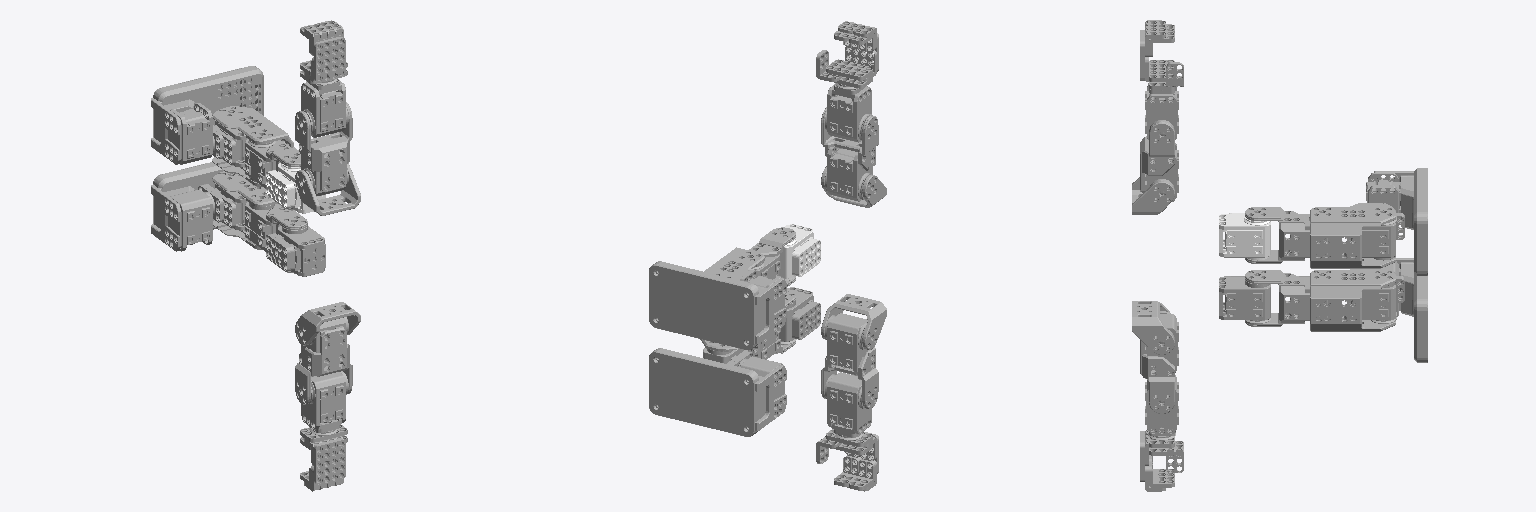
The robot description file, URDF, robot "UPGRADE_MINI_CAD":
<?xml version="1.0" encoding="utf-8"?>
<!-- This URDF was automatically created by SolidWorks to URDF Exporter! Originally created by [author] ([email redacted]) 
     Commit Version: 1.6.0-1-g15f4949  Build Version: 1.6.7594.29634
     For more information, please see http://wiki.ros.org/sw_urdf_exporter -->
<robot
  name="UPGRADE_MINI_CAD">
  <link
    name="Body">
    <inertial>
      <origin
        xyz="-0.0091918 -0.00047008 -0.016078"
        rpy="0 0 0" />
      <mass
        value="0.2437" />
      <inertia
        ixx="9.5353E-05"
        ixy="-3.5005E-08"
        ixz="-9.1096E-06"
        iyy="6.6853E-05"
        iyz="7.5168E-07"
        izz="9.5174E-05" />
    </inertial>
    <visual>
      <origin
        xyz="0 0 0"
        rpy="0 0 0" />
      <geometry>
        <mesh
          filename="package://UPGRADE_MINI_CAD/meshes/Body.STL" />
      </geometry>
      <material
        name="">
        <color
          rgba="0.75294 0.75294 0.75294 1" />
      </material>
    </visual>
    <collision>
      <origin
        xyz="0 0 0"
        rpy="0 0 0" />
      <geometry>
        <mesh
          filename="package://UPGRADE_MINI_CAD/meshes/Body.STL" />
      </geometry>
    </collision>
  </link>
  <link
    name="R_ARM_1">
    <inertial>
      <origin
        xyz="-1.41270283091089E-09 0.00456865100998955 0.00915593369616417"
        rpy="0 0 0" />
      <mass
        value="0.0042561997534057" />
      <inertia
        ixx="4.75526787509663E-07"
        ixy="-5.17770577555126E-14"
        ixz="-2.75755836924939E-14"
        iyy="1.10650237204247E-06"
        iyz="-1.26621947092055E-07"
        izz="1.10384151673514E-06" />
    </inertial>
    <visual>
      <origin
        xyz="0 0 0"
        rpy="0 0 0" />
      <geometry>
        <mesh
          filename="package://UPGRADE_MINI_CAD/meshes/R_ARM_1.STL" />
      </geometry>
      <material
        name="">
        <color
          rgba="0.752941176470588 0.752941176470588 0.752941176470588 1" />
      </material>
    </visual>
    <collision>
      <origin
        xyz="0 0 0"
        rpy="0 0 0" />
      <geometry>
        <mesh
          filename="package://UPGRADE_MINI_CAD/meshes/R_ARM_1.STL" />
      </geometry>
    </collision>
  </link>
  <joint
    name="JOINT_1"
    type="continuous">
    <origin
      xyz="0 0 -0.038998"
      rpy="-3.1416 0 -3.1416" />
    <parent
      link="Body" />
    <child
      link="R_ARM_1" />
    <axis
      xyz="0 0 1" />
  </joint>
  <link
    name="R_ARM_2">
    <inertial>
      <origin
        xyz="-5.46980825606703E-05 0.0120458330772934 0.00097049234653049"
        rpy="0 0 0" />
      <mass
        value="0.0230012005288787" />
      <inertia
        ixx="3.19855855058083E-06"
        ixy="-6.2294589265436E-08"
        ixz="2.12827266525489E-13"
        iyy="2.79006394276285E-06"
        iyz="2.84313451256825E-07"
        izz="4.1527174201124E-06" />
    </inertial>
    <visual>
      <origin
        xyz="0 0 0"
        rpy="0 0 0" />
      <geometry>
        <mesh
          filename="package://UPGRADE_MINI_CAD/meshes/R_ARM_2.STL" />
      </geometry>
      <material
        name="">
        <color
          rgba="0.752941176470588 0.752941176470588 0.752941176470588 1" />
      </material>
    </visual>
    <collision>
      <origin
        xyz="0 0 0"
        rpy="0 0 0" />
      <geometry>
        <mesh
          filename="package://UPGRADE_MINI_CAD/meshes/R_ARM_2.STL" />
      </geometry>
    </collision>
  </link>
  <joint
    name="JOINT_3"
    type="continuous">
    <origin
      xyz="0 0.012 0.018002"
      rpy="1.5708 0 0" />
    <parent
      link="R_ARM_1" />
    <child
      link="R_ARM_2" />
    <axis
      xyz="1 0 0" />
  </joint>
  <link
    name="R_ARM_3">
    <inertial>
      <origin
        xyz="0.00017860925519204 0.019998592601371 0.0012870653720527"
        rpy="0 0 0" />
      <mass
        value="0.0261581629564249" />
      <inertia
        ixx="2.36571031389844E-06"
        ixy="-5.5645222058886E-08"
        ixz="2.36320882971384E-13"
        iyy="1.96473201193679E-06"
        iyz="1.32989095115652E-08"
        izz="2.73594377881704E-06" />
    </inertial>
    <visual>
      <origin
        xyz="0 0 0"
        rpy="0 0 0" />
      <geometry>
        <mesh
          filename="package://UPGRADE_MINI_CAD/meshes/R_ARM_3.STL" />
      </geometry>
      <material
        name="">
        <color
          rgba="0.752941176470588 0.752941176470588 0.752941176470588 1" />
      </material>
    </visual>
    <collision>
      <origin
        xyz="0 0 0"
        rpy="0 0 0" />
      <geometry>
        <mesh
          filename="package://UPGRADE_MINI_CAD/meshes/R_ARM_3.STL" />
      </geometry>
    </collision>
  </link>
  <joint
    name="JOINT_5"
    type="continuous">
    <origin
      xyz="0 0.045 0"
      rpy="0 0 0" />
    <parent
      link="R_ARM_2" />
    <child
      link="R_ARM_3" />
    <axis
      xyz="1 0 0" />
  </joint>
  <link
    name="L_ARM_1">
    <inertial>
      <origin
        xyz="-1.41270208260944E-09 0.00456865100998909 0.00915593369616431"
        rpy="0 0 0" />
      <mass
        value="0.00425619975340609" />
      <inertia
        ixx="4.75526787509678E-07"
        ixy="-5.17770412284393E-14"
        ixz="-2.75755877226572E-14"
        iyy="1.1065023720425E-06"
        iyz="-1.26621947092053E-07"
        izz="1.10384151673518E-06" />
    </inertial>
    <visual>
      <origin
        xyz="0 0 0"
        rpy="0 0 0" />
      <geometry>
        <mesh
          filename="package://UPGRADE_MINI_CAD/meshes/L_ARM_1.STL" />
      </geometry>
      <material
        name="">
        <color
          rgba="0.752941176470588 0.752941176470588 0.752941176470588 1" />
      </material>
    </visual>
    <collision>
      <origin
        xyz="0 0 0"
        rpy="0 0 0" />
      <geometry>
        <mesh
          filename="package://UPGRADE_MINI_CAD/meshes/L_ARM_1.STL" />
      </geometry>
    </collision>
  </link>
  <joint
    name="JOINT_2"
    type="continuous">
    <origin
      xyz="0 0 0.038998"
      rpy="0 0 0" />
    <parent
      link="Body" />
    <child
      link="L_ARM_1" />
    <axis
      xyz="0 0 1" />
  </joint>
  <link
    name="L_ARM_2">
    <inertial>
      <origin
        xyz="5.46978612398653E-05 0.0120458330772935 0.000970490232161888"
        rpy="0 0 0" />
      <mass
        value="0.0230012005288788" />
      <inertia
        ixx="3.19855855058084E-06"
        ixy="6.22944868971599E-08"
        ixz="2.12827267566888E-13"
        iyy="2.79006394276285E-06"
        iyz="2.84312896323333E-07"
        izz="4.15271742011241E-06" />
    </inertial>
    <visual>
      <origin
        xyz="0 0 0"
        rpy="0 0 0" />
      <geometry>
        <mesh
          filename="package://UPGRADE_MINI_CAD/meshes/L_ARM_2.STL" />
      </geometry>
      <material
        name="">
        <color
          rgba="0.752941176470588 0.752941176470588 0.752941176470588 1" />
      </material>
    </visual>
    <collision>
      <origin
        xyz="0 0 0"
        rpy="0 0 0" />
      <geometry>
        <mesh
          filename="package://UPGRADE_MINI_CAD/meshes/L_ARM_2.STL" />
      </geometry>
    </collision>
  </link>
  <joint
    name="JOINT_4"
    type="continuous">
    <origin
      xyz="0 0.012 0.018002"
      rpy="1.5708 0 0" />
    <parent
      link="L_ARM_1" />
    <child
      link="L_ARM_2" />
    <axis
      xyz="1 0 0" />
  </joint>
  <link
    name="L_ARM_3">
    <inertial>
      <origin
        xyz="-0.000178609255192013 0.0199985926013709 0.00128706351286216"
        rpy="0 0 0" />
      <mass
        value="0.026158162956425" />
      <inertia
        ixx="2.36571031389844E-06"
        ixy="5.56452220588877E-08"
        ixz="2.36320882687753E-13"
        iyy="1.96473201193679E-06"
        iyz="1.32983545780728E-08"
        izz="2.73594377881704E-06" />
    </inertial>
    <visual>
      <origin
        xyz="0 0 0"
        rpy="0 0 0" />
      <geometry>
        <mesh
          filename="package://UPGRADE_MINI_CAD/meshes/L_ARM_3.STL" />
      </geometry>
      <material
        name="">
        <color
          rgba="0.752941176470588 0.752941176470588 0.752941176470588 1" />
      </material>
    </visual>
    <collision>
      <origin
        xyz="0 0 0"
        rpy="0 0 0" />
      <geometry>
        <mesh
          filename="package://UPGRADE_MINI_CAD/meshes/L_ARM_3.STL" />
      </geometry>
    </collision>
  </link>
  <joint
    name="JOINT_6"
    type="continuous">
    <origin
      xyz="0 0.045 0"
      rpy="0 0 0" />
    <parent
      link="L_ARM_2" />
    <child
      link="L_ARM_3" />
    <axis
      xyz="1 0 0" />
  </joint>
  <link
    name="R_LEG_1">
    <inertial>
      <origin
        xyz="-0.00122067250788752 6.32144396902727E-05 0.0135315848690105"
        rpy="0 0 0" />
      <mass
        value="0.0199023992993582" />
      <inertia
        ixx="1.60303748122172E-06"
        ixy="-6.22945380812975E-08"
        ixz="2.77466746785823E-13"
        iyy="2.15851329852161E-06"
        iyz="2.36320882509393E-13"
        izz="2.4687856445552E-06" />
    </inertial>
    <visual>
      <origin
        xyz="0 0 0"
        rpy="0 0 0" />
      <geometry>
        <mesh
          filename="package://UPGRADE_MINI_CAD/meshes/R_LEG_1.STL" />
      </geometry>
      <material
        name="">
        <color
          rgba="0.752941176470588 0.752941176470588 0.752941176470588 1" />
      </material>
    </visual>
    <collision>
      <origin
        xyz="0 0 0"
        rpy="0 0 0" />
      <geometry>
        <mesh
          filename="package://UPGRADE_MINI_CAD/meshes/R_LEG_1.STL" />
      </geometry>
    </collision>
  </link>
  <joint
    name="JOINT_7"
    type="continuous">
    <origin
      xyz="0 0.072 -0.024"
      rpy="1.5708 0 1.5708" />
    <parent
      link="Body" />
    <child
      link="R_LEG_1" />
    <axis
      xyz="0 0 1" />
  </joint>
  <link
    name="R_LEG_2">
    <inertial>
      <origin
        xyz="0.0329541669028194 3.44330516718373E-05 0.000971421032520396"
        rpy="0 0 0" />
      <mass
        value="0.0230012005288788" />
      <inertia
        ixx="2.79006395445455E-06"
        ixy="-5.63476714674394E-08"
        ixz="-2.85551014557258E-07"
        iyy="3.19897408156339E-06"
        iyz="-1.99075350695764E-08"
        izz="4.15230187743816E-06" />
    </inertial>
    <visual>
      <origin
        xyz="0 0 0"
        rpy="0 0 0" />
      <geometry>
        <mesh
          filename="package://UPGRADE_MINI_CAD/meshes/R_LEG_2.STL" />
      </geometry>
      <material
        name="">
        <color
          rgba="0.752941176470588 0.752941176470588 0.752941176470588 1" />
      </material>
    </visual>
    <collision>
      <origin
        xyz="0 0 0"
        rpy="0 0 0" />
      <geometry>
        <mesh
          filename="package://UPGRADE_MINI_CAD/meshes/R_LEG_2.STL" />
      </geometry>
    </collision>
  </link>
  <joint
    name="JOINT_9"
    type="continuous">
    <origin
      xyz="0.006 0 0.015"
      rpy="-0.02087 0 0" />
    <parent
      link="R_LEG_1" />
    <child
      link="R_LEG_2" />
    <axis
      xyz="0 0.99978 0.020869" />
  </joint>
  <link
    name="R_LEG_3">
    <inertial>
      <origin
        xyz="0.017899745166101 5.03561475850844E-09 0.00688303209754427"
        rpy="0 0 0" />
      <mass
        value="0.00898936103979292" />
      <inertia
        ixx="2.97044041191103E-06"
        ixy="-3.9180621018994E-13"
        ixz="4.51182757180514E-07"
        iyy="3.47626399724035E-06"
        iyz="-2.88931236036204E-13"
        izz="4.72558607476253E-06" />
    </inertial>
    <visual>
      <origin
        xyz="0 0 0"
        rpy="0 0 0" />
      <geometry>
        <mesh
          filename="package://UPGRADE_MINI_CAD/meshes/R_LEG_3.STL" />
      </geometry>
      <material
        name="">
        <color
          rgba="0.752941176470588 0.752941176470588 0.752941176470588 1" />
      </material>
    </visual>
    <collision>
      <origin
        xyz="0 0 0"
        rpy="0 0 0" />
      <geometry>
        <mesh
          filename="package://UPGRADE_MINI_CAD/meshes/R_LEG_3.STL" />
      </geometry>
    </collision>
  </link>
  <joint
    name="JOINT_11"
    type="continuous">
    <origin
      xyz="0.045 0 0"
      rpy="0.02087 0 0" />
    <parent
      link="R_LEG_2" />
    <child
      link="R_LEG_3" />
    <axis
      xyz="0 1 0" />
  </joint>
  <link
    name="R_LEG_4">
    <inertial>
      <origin
        xyz="-0.00622990861915076 6.42923681114169E-05 -0.00175974572544711"
        rpy="0 0 0" />
      <mass
        value="0.0195687148748515" />
      <inertia
        ixx="1.57200312090151E-06"
        ixy="-6.22945380812993E-08"
        ixz="2.77466746831035E-13"
        iyy="2.25015128902117E-06"
        iyz="2.36320883094076E-13"
        izz="2.57130700251407E-06" />
    </inertial>
    <visual>
      <origin
        xyz="0 0 0"
        rpy="0 0 0" />
      <geometry>
        <mesh
          filename="package://UPGRADE_MINI_CAD/meshes/R_LEG_4.STL" />
      </geometry>
      <material
        name="">
        <color
          rgba="0.752941176470588 0.752941176470588 0.752941176470588 1" />
      </material>
    </visual>
    <collision>
      <origin
        xyz="0 0 0"
        rpy="0 0 0" />
      <geometry>
        <mesh
          filename="package://UPGRADE_MINI_CAD/meshes/R_LEG_4.STL" />
      </geometry>
    </collision>
  </link>
  <joint
    name="JOINT_13"
    type="continuous">
    <origin
      xyz="0.042 0 0"
      rpy="0 0 0" />
    <parent
      link="R_LEG_3" />
    <child
      link="R_LEG_4" />
    <axis
      xyz="0 1 0" />
  </joint>
  <link
    name="R_LEG_5">
    <inertial>
      <origin
        xyz="0.0122476213713948 -0.00800871393403307 -0.0210614114822717"
        rpy="0 0 0" />
      <mass
        value="0.0365288623421758" />
      <inertia
        ixx="2.06601022349224E-05"
        ixy="6.84109502811076E-14"
        ixz="-1.52663372444367E-06"
        iyy="1.66434196036713E-05"
        iyz="-6.22949019507228E-08"
        izz="6.87373955773588E-06" />
    </inertial>
    <visual>
      <origin
        xyz="0 0 0"
        rpy="0 0 0" />
      <geometry>
        <mesh
          filename="package://UPGRADE_MINI_CAD/meshes/R_LEG_5.STL" />
      </geometry>
      <material
        name="">
        <color
          rgba="0.752941176470588 0.752941176470588 0.752941176470588 1" />
      </material>
    </visual>
    <collision>
      <origin
        xyz="0 0 0"
        rpy="0 0 0" />
      <geometry>
        <mesh
          filename="package://UPGRADE_MINI_CAD/meshes/R_LEG_5.STL" />
      </geometry>
    </collision>
  </link>
  <joint
    name="JOINT_15"
    type="continuous">
    <origin
      xyz="0 0 0"
      rpy="0 0 0" />
    <parent
      link="R_LEG_4" />
    <child
      link="R_LEG_5" />
    <axis
      xyz="0 0 1" />
  </joint>
  <link
    name="L_LEG_1">
    <inertial>
      <origin
        xyz="0 0 0"
        rpy="0 0 0" />
      <mass
        value="0" />
      <inertia
        ixx="0"
        ixy="0"
        ixz="0"
        iyy="0"
        iyz="0"
        izz="0" />
    </inertial>
    <visual>
      <origin
        xyz="0 0 0"
        rpy="0 0 0" />
      <geometry>
        <mesh
          filename="package://UPGRADE_MINI_CAD/meshes/L_LEG_1.STL" />
      </geometry>
      <material
        name="">
        <color
          rgba="1 1 1 1" />
      </material>
    </visual>
    <collision>
      <origin
        xyz="0 0 0"
        rpy="0 0 0" />
      <geometry>
        <mesh
          filename="package://UPGRADE_MINI_CAD/meshes/L_LEG_1.STL" />
      </geometry>
    </collision>
  </link>
  <joint
    name="JOINT_8"
    type="continuous">
    <origin
      xyz="0 0.072 0.024"
      rpy="1.5633 0 1.5708" />
    <parent
      link="Body" />
    <child
      link="L_LEG_1" />
    <axis
      xyz="0 0.007529 -0.99997" />
  </joint>
  <link
    name="L_LEG_2">
    <inertial>
      <origin
        xyz="-0.0009704923465302 -0.0329541669227067 -0.00205469808256117"
        rpy="0 0 0" />
      <mass
        value="0.0230012005288788" />
      <inertia
        ixx="4.1527174201124E-06"
        ixy="-2.84313451256824E-07"
        ixz="-2.12827266441703E-13"
        iyy="2.79006394276285E-06"
        iyz="-6.22945892654347E-08"
        izz="3.19855855058084E-06" />
    </inertial>
    <visual>
      <origin
        xyz="0 0 0"
        rpy="0 0 0" />
      <geometry>
        <mesh
          filename="package://UPGRADE_MINI_CAD/meshes/L_LEG_2.STL" />
      </geometry>
      <material
        name="">
        <color
          rgba="0.752941176470588 0.752941176470588 0.752941176470588 1" />
      </material>
    </visual>
    <collision>
      <origin
        xyz="0 0 0"
        rpy="0 0 0" />
      <geometry>
        <mesh
          filename="package://UPGRADE_MINI_CAD/meshes/L_LEG_2.STL" />
      </geometry>
    </collision>
  </link>
  <joint
    name="JOINT_10"
    type="continuous">
    <origin
      xyz="0.006 0.001887 0.015015"
      rpy="0 1.5633 1.5708" />
    <parent
      link="L_LEG_1" />
    <child
      link="L_LEG_2" />
    <axis
      xyz="0 0 1" />
  </joint>
  <link
    name="L_LEG_3">
    <inertial>
      <origin
        xyz="0.0178997451915608 -0.00199999473652824 0.0068830320975428"
        rpy="0 0 0" />
      <mass
        value="0.00898936103979377" />
      <inertia
        ixx="2.9704404119114E-06"
        ixy="-3.98245154372277E-13"
        ixz="4.51182757180571E-07"
        iyy="3.47626399724056E-06"
        iyz="-2.83187815807375E-13"
        izz="4.72558607476268E-06" />
    </inertial>
    <visual>
      <origin
        xyz="0 0 0"
        rpy="0 0 0" />
      <geometry>
        <mesh
          filename="package://UPGRADE_MINI_CAD/meshes/L_LEG_3.STL" />
      </geometry>
      <material
        name="">
        <color
          rgba="0.752941176470588 0.752941176470588 0.752941176470588 1" />
      </material>
    </visual>
    <collision>
      <origin
        xyz="0 0 0"
        rpy="0 0 0" />
      <geometry>
        <mesh
          filename="package://UPGRADE_MINI_CAD/meshes/L_LEG_3.STL" />
      </geometry>
    </collision>
  </link>
  <joint
    name="JOINT_12"
    type="continuous">
    <origin
      xyz="0 -0.045 0"
      rpy="1.5708 0 -1.5708" />
    <parent
      link="L_LEG_2" />
    <child
      link="L_LEG_3" />
    <axis
      xyz="0 1 0" />
  </joint>
  <link
    name="L_LEG_4">
    <inertial>
      <origin
        xyz="-0.0062299086191506 -0.00206429236811201 -0.00175974324020416"
        rpy="0 0 0" />
      <mass
        value="0.0195687148748515" />
      <inertia
        ixx="1.57200312090151E-06"
        ixy="6.22945380812881E-08"
        ixz="-2.77466742885213E-13"
        iyy="2.25015128902117E-06"
        iyz="2.36320883083079E-13"
        izz="2.57130700251407E-06" />
    </inertial>
    <visual>
      <origin
        xyz="0 0 0"
        rpy="0 0 0" />
      <geometry>
        <mesh
          filename="package://UPGRADE_MINI_CAD/meshes/L_LEG_4.STL" />
      </geometry>
      <material
        name="">
        <color
          rgba="0.752941176470588 0.752941176470588 0.752941176470588 1" />
      </material>
    </visual>
    <collision>
      <origin
        xyz="0 0 0"
        rpy="0 0 0" />
      <geometry>
        <mesh
          filename="package://UPGRADE_MINI_CAD/meshes/L_LEG_4.STL" />
      </geometry>
    </collision>
  </link>
  <joint
    name="JOINT_14"
    type="continuous">
    <origin
      xyz="0.042 0 0"
      rpy="0 0 0" />
    <parent
      link="L_LEG_3" />
    <child
      link="L_LEG_4" />
    <axis
      xyz="0 1 0" />
  </joint>
  <link
    name="L_LEG_5">
    <inertial>
      <origin
        xyz="0.0122476231275176 0.00570968842078225 -0.0211444346145496"
        rpy="0 0 0" />
      <mass
        value="0.0365288623421764" />
      <inertia
        ixx="2.06601022849607E-05"
        ixy="-2.16309049620909E-08"
        ixz="-1.52648071828746E-06"
        iyy="1.66432233486565E-05"
        iyz="-7.61437907077103E-08"
        izz="6.87393576271403E-06" />
    </inertial>
    <visual>
      <origin
        xyz="0 0 0"
        rpy="0 0 0" />
      <geometry>
        <mesh
          filename="package://UPGRADE_MINI_CAD/meshes/L_LEG_5.STL" />
      </geometry>
      <material
        name="">
        <color
          rgba="0.752941176470588 0.752941176470588 0.752941176470588 1" />
      </material>
    </visual>
    <collision>
      <origin
        xyz="0 0 0"
        rpy="0 0 0" />
      <geometry>
        <mesh
          filename="package://UPGRADE_MINI_CAD/meshes/L_LEG_5.STL" />
      </geometry>
    </collision>
  </link>
  <joint
    name="JOINT_16"
    type="continuous">
    <origin
      xyz="0 0 0"
      rpy="0.0141695019227082 0 0" />
    <parent
      link="L_LEG_4" />
    <child
      link="L_LEG_5" />
    <axis
      xyz="0 0.0141690277810197 0.999899614287225" />
  </joint>
</robot>

--- What the picture shows (computed from the rendered views, not written in the file) ---
Views: 3 orthographic renders of the robot side by side, from view 1: azimuth 30°, elevation 25°; view 2: azimuth 150°, elevation 25°; view 3: azimuth 270°, elevation 25°.
Robot: UPGRADE_MINI_CAD — 17 links, 16 joints (16 continuous); root link Body; default pose: all joints at 0.
Links seen in each view (by area): view 1: L_LEG_5, R_LEG_5, L_ARM_3, R_ARM_3, L_ARM_2, R_ARM_2, R_LEG_1, L_LEG_3, R_LEG_2, L_LEG_2, L_ARM_1, R_ARM_1 (+4 smaller); view 2: R_LEG_5, L_LEG_5, L_ARM_3, R_ARM_3, R_ARM_2, L_ARM_2, L_LEG_1, R_LEG_1, R_ARM_1, L_LEG_2, L_LEG_3, L_ARM_1 (+2 smaller); view 3: L_LEG_3, R_LEG_3, L_ARM_3, L_LEG_5, R_ARM_3, R_ARM_2, L_LEG_2, R_LEG_2, L_ARM_2, R_LEG_1, L_LEG_1, R_LEG_5 (+4 smaller).
Boxes of the visible links, box(x1,y1,x2,y2) form: L_LEG_5: box(151, 66, 263, 164); R_LEG_5: box(151, 162, 223, 251); L_ARM_3: box(300, 20, 348, 137); R_ARM_3: box(300, 371, 348, 491); L_ARM_2: box(295, 102, 352, 195); R_ARM_2: box(295, 315, 352, 404); R_LEG_1: box(266, 226, 325, 276); L_LEG_3: box(212, 106, 293, 186); R_LEG_2: box(245, 202, 307, 273); L_LEG_2: box(245, 139, 300, 209); L_ARM_1: box(295, 163, 360, 215); R_ARM_1: box(295, 302, 360, 345); R_LEG_5: box(649, 348, 786, 436); L_LEG_5: box(649, 261, 786, 350); L_ARM_3: box(816, 21, 878, 142); R_ARM_3: box(816, 372, 878, 491); R_ARM_2: box(821, 313, 878, 408); L_ARM_2: box(821, 107, 878, 201); L_LEG_1: box(779, 224, 820, 280); R_LEG_1: box(779, 287, 820, 344); R_ARM_1: box(821, 294, 886, 349); L_LEG_2: box(749, 227, 795, 286); L_LEG_3: box(704, 247, 764, 279); L_ARM_1: box(821, 166, 886, 207); L_LEG_3: box(1310, 203, 1395, 268); R_LEG_3: box(1310, 267, 1395, 331); L_ARM_3: box(1140, 20, 1183, 139); L_LEG_5: box(1366, 168, 1427, 275); R_ARM_3: box(1140, 375, 1183, 491); R_ARM_2: box(1140, 311, 1178, 413); L_LEG_2: box(1245, 207, 1329, 263); R_LEG_2: box(1245, 270, 1329, 326); L_ARM_2: box(1140, 122, 1178, 201); R_LEG_1: box(1219, 276, 1270, 323); L_LEG_1: box(1219, 213, 1270, 260); R_LEG_5: box(1386, 258, 1427, 362).
Size in the robot's own frame: 0.087 by 0.205 by 0.348 metres.
16 mesh visuals loaded from 17 distinct referenced files (16 binary STL); not drawn: 1 (reference not matched to a file when rendering).